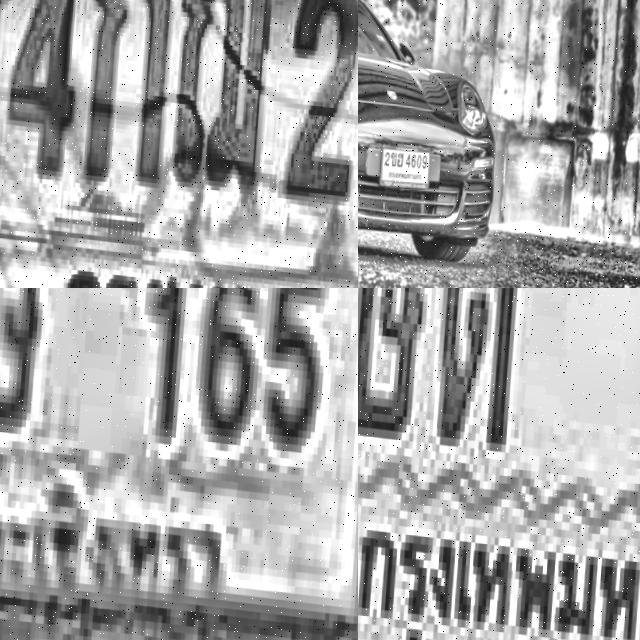license-plate: (0, 288, 358, 640), (0, 0, 358, 288), (358, 288, 640, 640), (377, 134, 439, 193)
